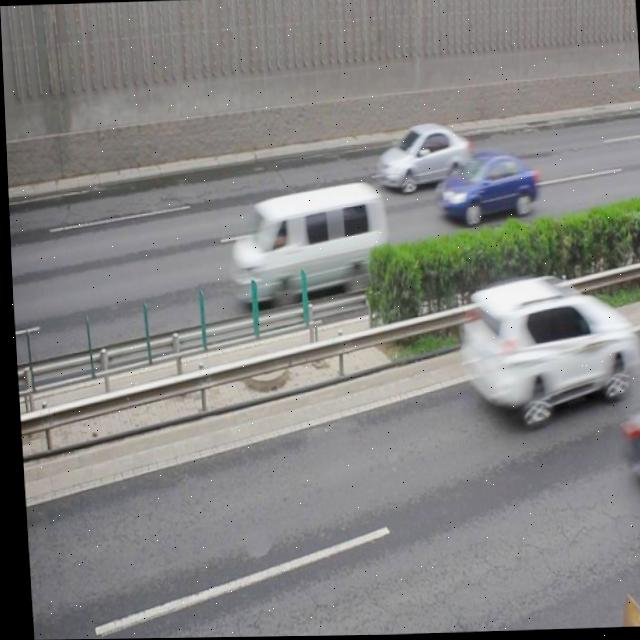car: (451, 271, 637, 425), (431, 150, 539, 225), (372, 120, 470, 193), (611, 374, 640, 504)
truck: (222, 181, 387, 306)
